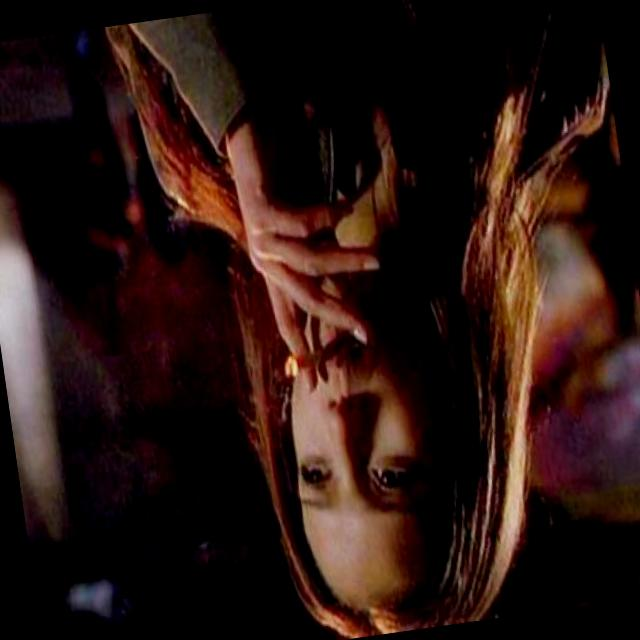smoke: (255, 311, 368, 394)
